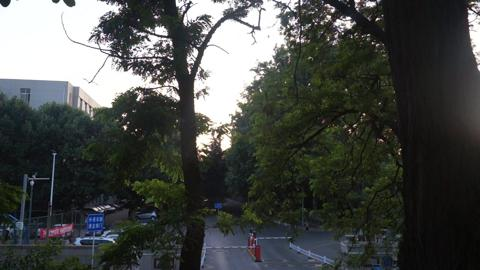UAV: (278, 53, 288, 60)
